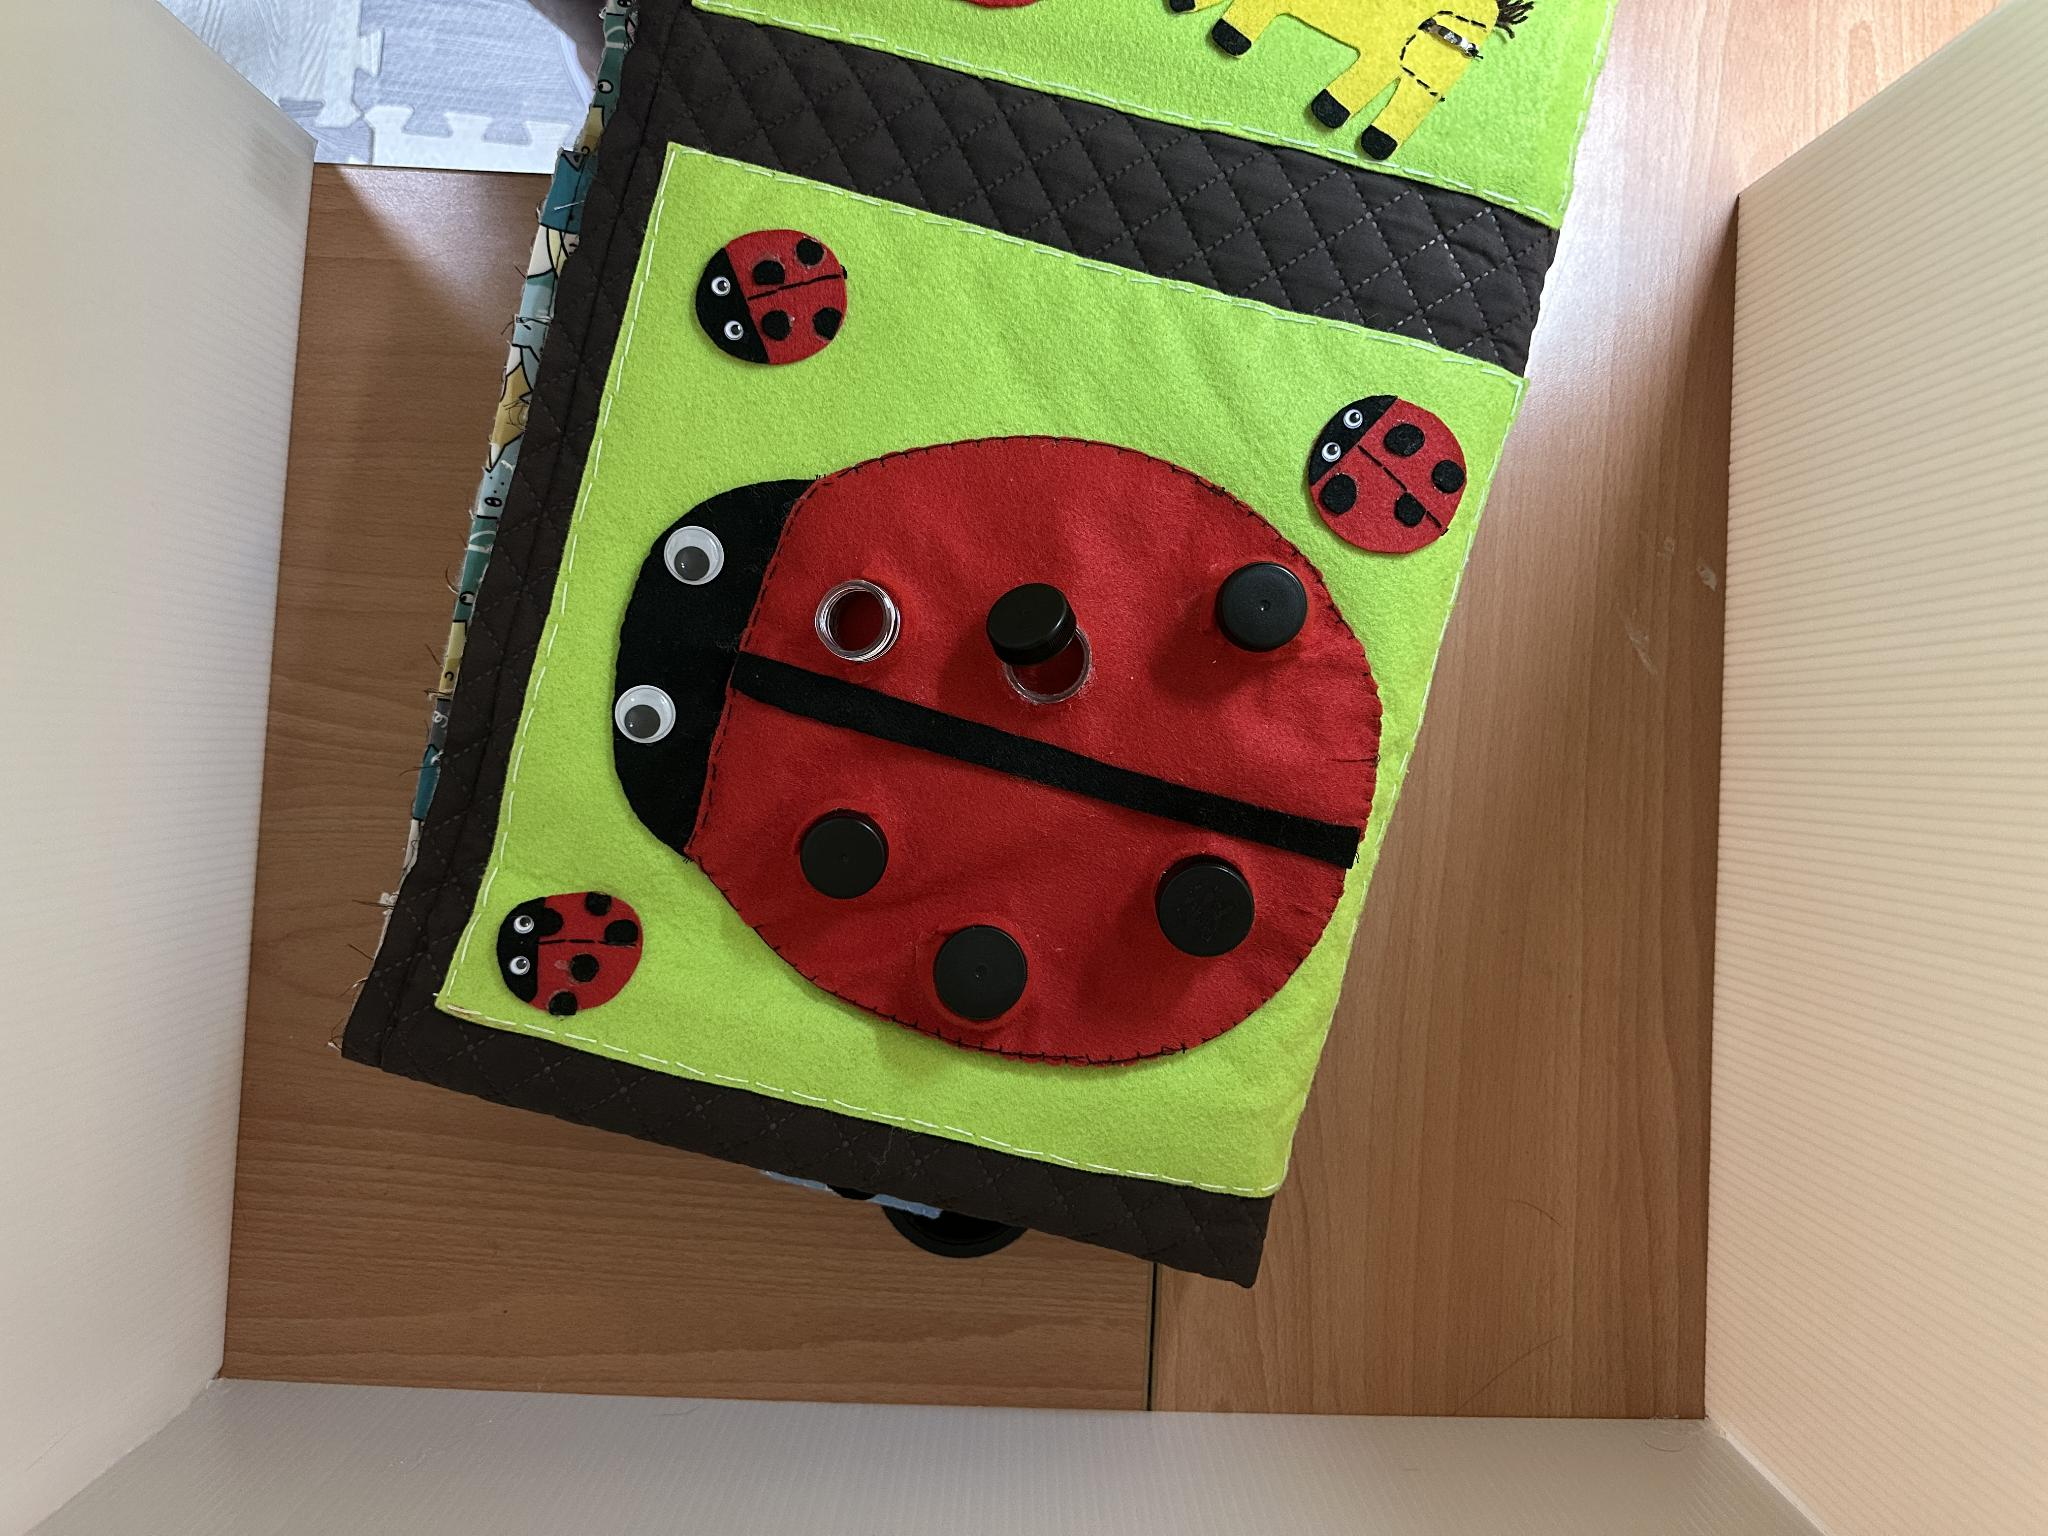cap_ng: (966, 570, 1114, 726)
cap_ok: (1114, 824, 1288, 979), (1179, 539, 1356, 682), (905, 905, 1071, 1050), (774, 791, 911, 921)
